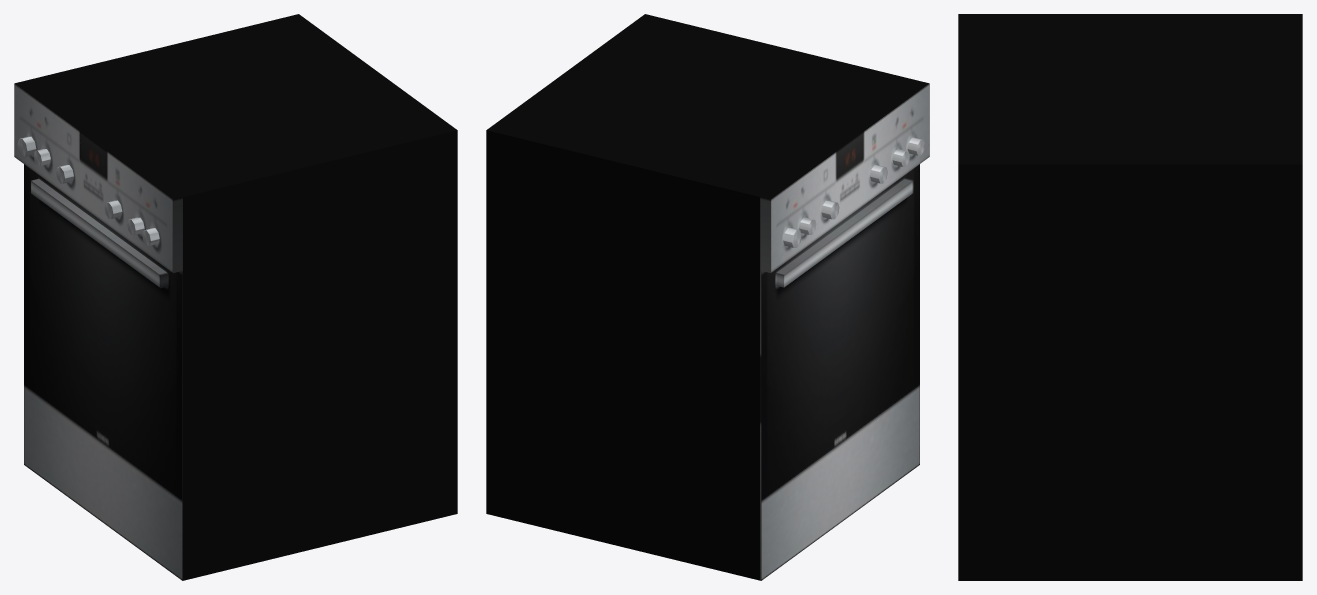
File: Ofen.fbx
3 renders of one model, left to right at view 1: azimuth 30°, elevation 25°; view 2: azimuth 150°, elevation 25°; view 3: azimuth 270°, elevation 25°, orthographic. The views are drawn at different scales.
Parts seen in each view (by area): view 1: Backofen; view 2: Backofen; view 3: Backofen.
Part boxes in pixels (x1,y1,x2,y2): Backofen: [14, 14, 457, 580]; Backofen: [486, 14, 929, 580]; Backofen: [958, 14, 1302, 580].
Size of the model in its own units: 64.02 by 80 by 60.
